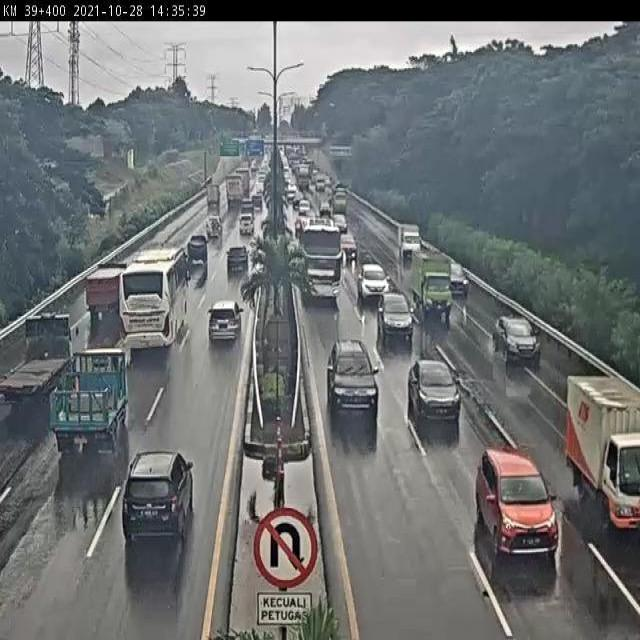big bus: (119, 246, 194, 354), (294, 214, 342, 298)
big truck: (224, 174, 246, 207)
car: (477, 446, 558, 562), (122, 449, 194, 547), (325, 337, 379, 411), (408, 360, 460, 417), (494, 312, 539, 367), (378, 292, 413, 341), (206, 301, 241, 344), (358, 264, 388, 300), (398, 224, 422, 260), (226, 247, 251, 274), (448, 264, 466, 295), (204, 218, 221, 242), (339, 235, 356, 257), (237, 215, 254, 236), (331, 212, 344, 228), (250, 196, 263, 211), (240, 200, 253, 215), (299, 199, 310, 212)
small truck: (564, 372, 640, 532), (52, 349, 127, 456), (0, 314, 72, 394), (412, 252, 452, 317), (85, 263, 129, 321), (187, 235, 208, 265), (332, 182, 349, 210), (205, 185, 219, 208)
